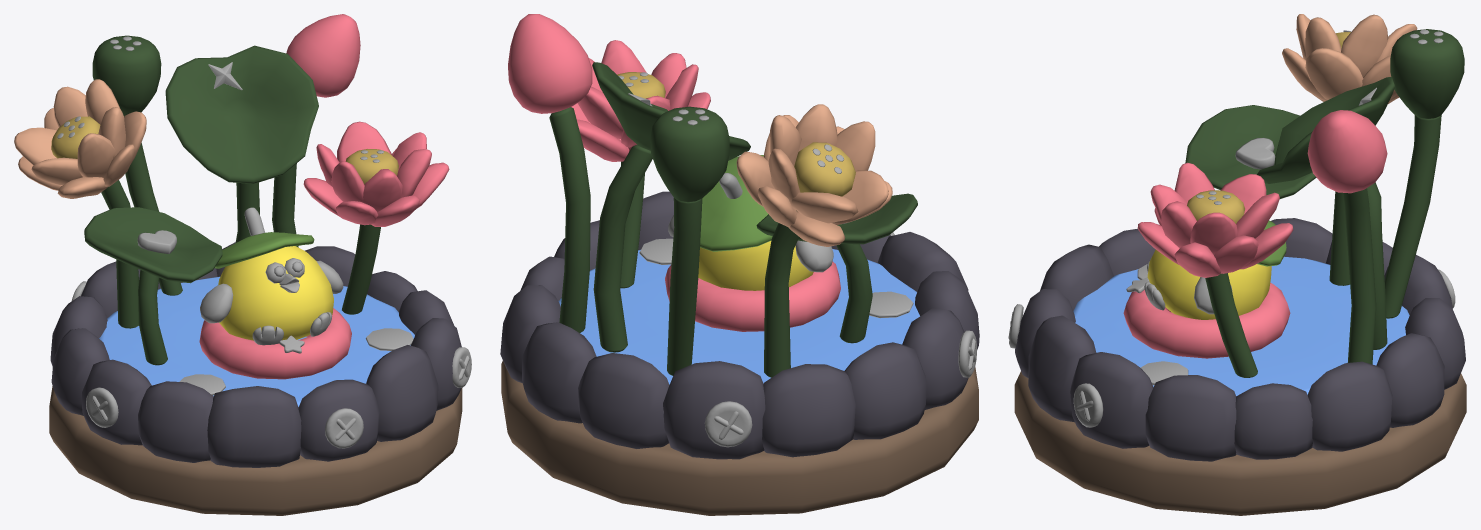
The model's file is LotusPond.fbx.
3 renders of one model, left to right at view 1: azimuth 30°, elevation 25°; view 2: azimuth 150°, elevation 25°; view 3: azimuth 270°, elevation 25°, orthographic. The views are drawn at different scales.
Visible parts, largest first — view 1: S_LotusPond, M_LotusPond, D_LotusPond_7, D_LotusPond_1, D_LotusPond_3, D_LotusPond_9, D_LotusPond_18, D_LotusPond_8, D_LotusPond_2, D_LotusPond_4; view 2: S_LotusPond, M_LotusPond, D_LotusPond_20, D_LotusPond_2, D_LotusPond_3, D_LotusPond_1, D_LotusPond_9; view 3: S_LotusPond, M_LotusPond, D_LotusPond_8, D_LotusPond_18, D_LotusPond_9.
Part boxes in pixels (x1,y1,x2,y2): S_LotusPond: [14, 45, 462, 515]; M_LotusPond: [50, 14, 461, 467]; D_LotusPond_7: [325, 408, 363, 448]; D_LotusPond_1: [86, 387, 118, 427]; D_LotusPond_3: [200, 283, 233, 323]; D_LotusPond_9: [365, 328, 413, 350]; D_LotusPond_18: [137, 230, 176, 253]; D_LotusPond_8: [452, 347, 471, 387]; D_LotusPond_2: [179, 374, 225, 395]; D_LotusPond_4: [252, 325, 283, 345]; S_LotusPond: [501, 40, 978, 515]; M_LotusPond: [500, 14, 979, 459]; D_LotusPond_20: [704, 401, 752, 447]; D_LotusPond_2: [869, 291, 913, 318]; D_LotusPond_3: [795, 240, 833, 272]; D_LotusPond_1: [958, 330, 976, 377]; D_LotusPond_9: [639, 238, 673, 264]; S_LotusPond: [1014, 14, 1466, 515]; M_LotusPond: [1015, 29, 1465, 461]; D_LotusPond_8: [1073, 383, 1103, 427]; D_LotusPond_18: [1235, 137, 1275, 169]; D_LotusPond_9: [1140, 361, 1188, 385].
Bounding box in the file's own units: 530 × 492 × 534.
